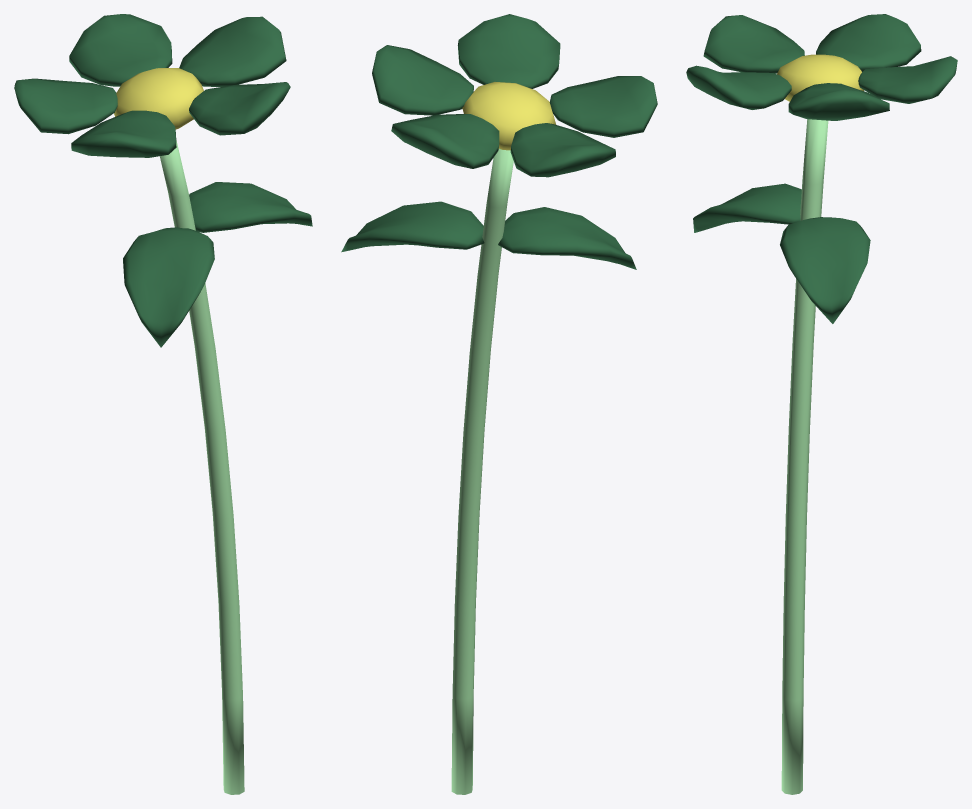
The model's file is flower.fbx.
3 views of the same model, side by side, from view 1: azimuth 30°, elevation 25°; view 2: azimuth 150°, elevation 25°; view 3: azimuth 270°, elevation 25° (orthographic). The views are drawn at different scales.
Parts seen in each view (by area): view 1: Sphere.002; view 2: Sphere.002; view 3: Sphere.002.
Part boxes in pixels (x1,y1,x2,y2): Sphere.002: (14,14,312,794); Sphere.002: (341,14,657,794); Sphere.002: (686,14,957,794).
Bounding box in the file's own units: 202 × 516 × 175.
